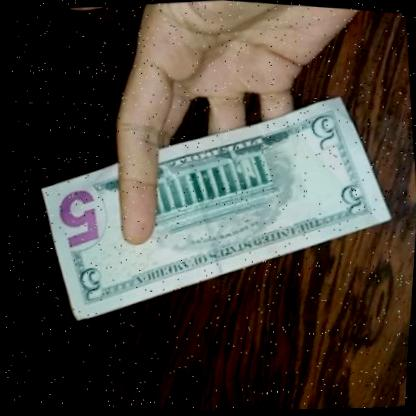five-back: (10, 63, 416, 354)
